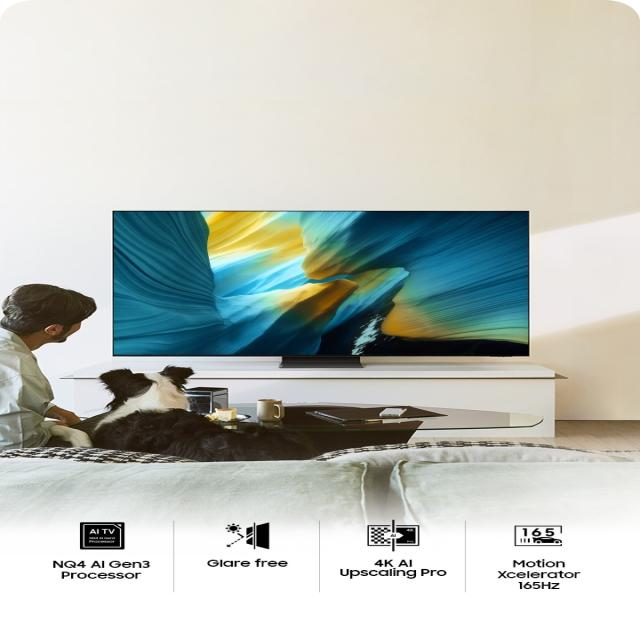electronics: (116, 212, 527, 365), (92, 366, 312, 461), (302, 406, 444, 423), (278, 355, 361, 368), (185, 387, 226, 413), (228, 522, 268, 548), (205, 408, 251, 429), (256, 398, 284, 421), (244, 522, 268, 548), (214, 408, 241, 421), (214, 408, 236, 420), (380, 407, 405, 417), (207, 560, 238, 566), (257, 560, 276, 565), (242, 560, 246, 565), (232, 408, 236, 413), (294, 362, 298, 363), (280, 563, 281, 564), (284, 562, 284, 565), (246, 416, 247, 416)
